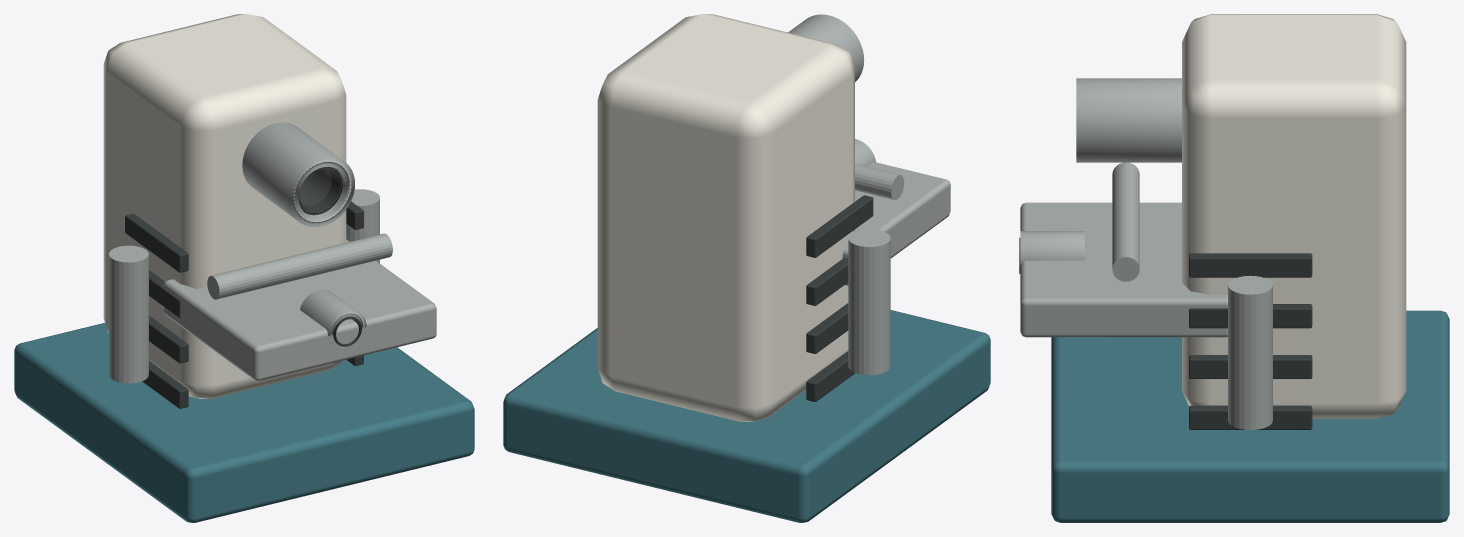
Rendered from optician-and-optical-lens-workshop-optician-and-optica-3074623a__31681.glb.
3 renders of one model, left to right at view 1: azimuth 30°, elevation 25°; view 2: azimuth 150°, elevation 25°; view 3: azimuth 270°, elevation 25°, orthographic. The views are drawn at different scales.
Visible parts, largest first — view 1: optician-and-optical-lens-workshop-lensmeter; view 2: optician-and-optical-lens-workshop-lensmeter; view 3: optician-and-optical-lens-workshop-lensmeter.
Boxes of the visible parts, x1=… form: optician-and-optical-lens-workshop-lensmeter: x1=14, y1=14, x2=474, y2=522; optician-and-optical-lens-workshop-lensmeter: x1=503, y1=14, x2=990, y2=522; optician-and-optical-lens-workshop-lensmeter: x1=1019, y1=14, x2=1449, y2=522.
Bounding box in the file's own units: 0.3 × 0.355 × 0.3458.
